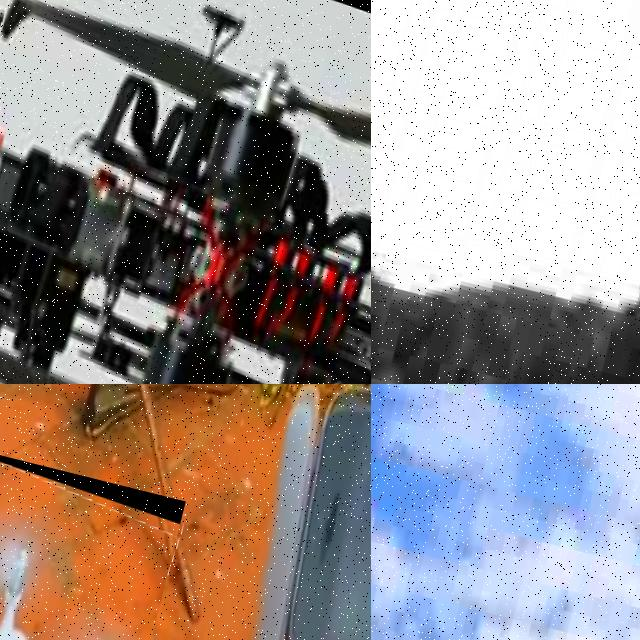drone: (0, 0, 371, 384), (0, 437, 185, 640)
